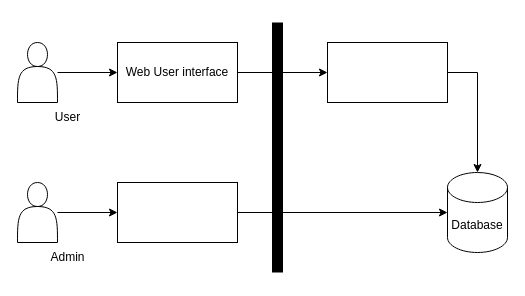
The diagram is 525 pixels wide and 296 high, and some of its shapes have lost their labels. The centre of each missing label's shape, as x and y in pixels:
Crawler: the point at 177,212
WebAPI: the point at 387,72
